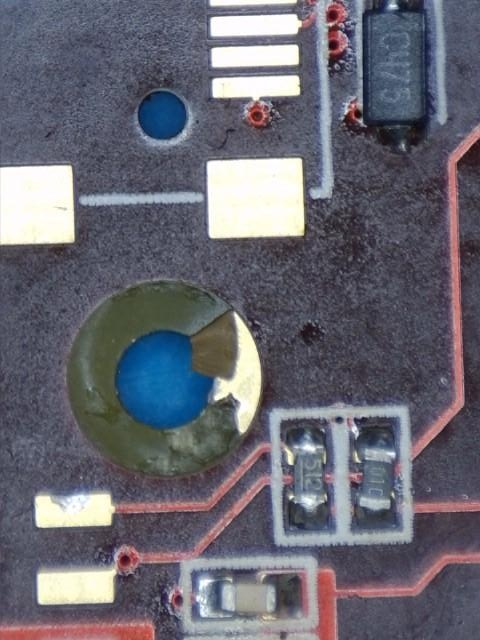pcb_defect: (68, 282, 261, 478)
